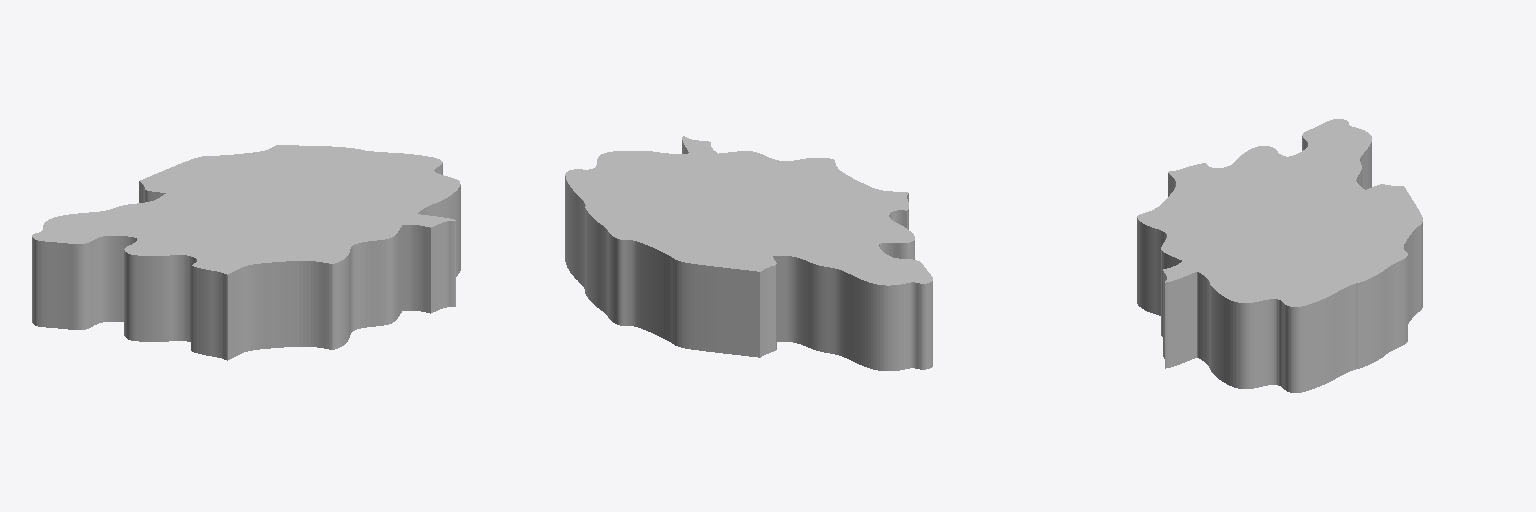
File: Asia_01.obj
3 views of the same model, side by side, from view 1: azimuth 30°, elevation 25°; view 2: azimuth 150°, elevation 25°; view 3: azimuth 270°, elevation 25° (orthographic).
Visible parts, largest first — view 1: Asia_01_path4252; view 2: Asia_01_path4252; view 3: Asia_01_path4252.
Part boxes in pixels (x1,y1,x2,y2): Asia_01_path4252: (32,145,460,360); Asia_01_path4252: (565,136,932,370); Asia_01_path4252: (1137,119,1422,392).
Size of the model in its own units: 0.47 by 0.1 by 0.3018.